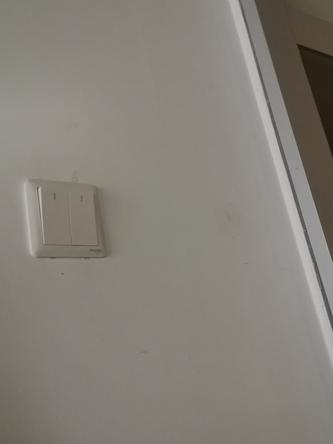switch: (35, 181, 75, 250), (65, 183, 102, 250)
